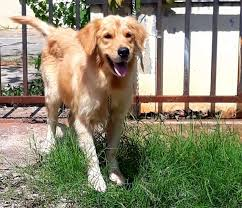Golden Retriever: (4, 6, 165, 197)
